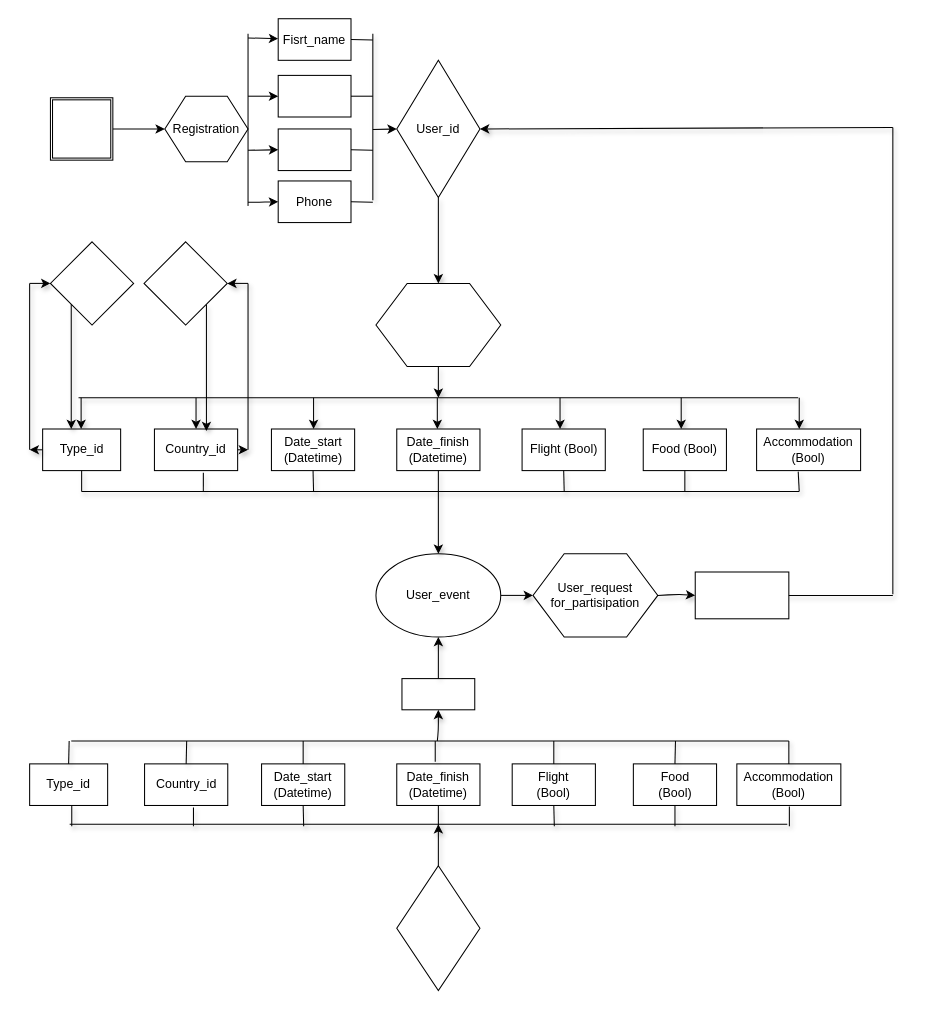
Image size: 926x1009. Some labels were removed from this diagram. The shapes that lost their labels are listed below. From the top down, each one's centre as x and y in pixels, then its label:
pixel 314 95: Last_name
pixel 81 128: User
pixel 314 149: E-mail
pixel 91 283: Type_list
pixel 185 283: Country_list
pixel 438 324: User_input
pixel 741 595: User_event_id
pixel 438 694: Event_id
pixel 438 928: Event_list
